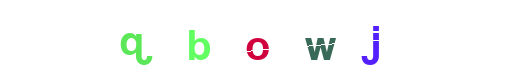B: (217, 0, 297, 80)
J: (333, 0, 413, 80)
O: (223, 0, 303, 80)
Q: (129, 0, 209, 80)
W: (280, 0, 360, 80)
